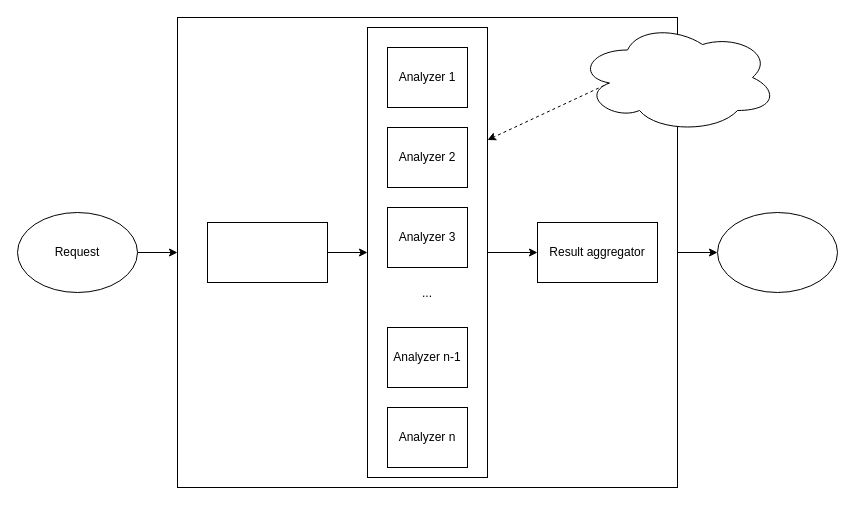
Some shapes in this 855 by 505 pixel diagram are drawn without their labels. The centre of each missing label's shape, as x and y in pixels:
All the Analyzers should be executed in a parallel manner: the point at 677,77
Response: the point at 777,252
Web page content extractor: the point at 267,252
